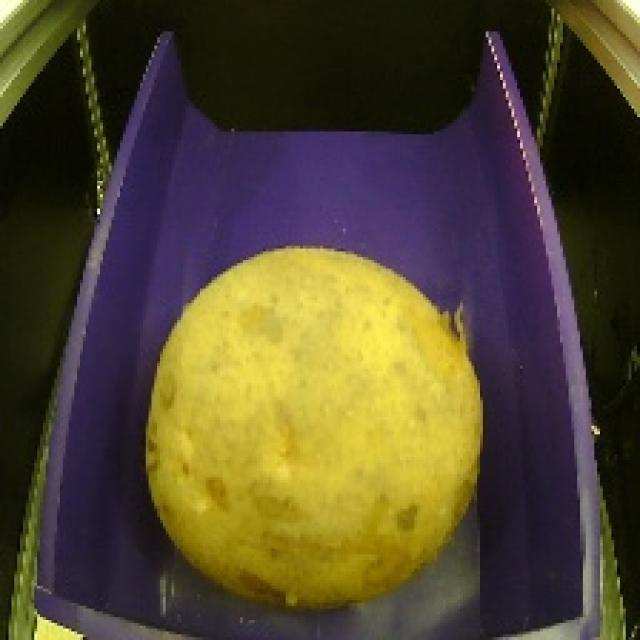full_potato: (127, 232, 507, 622)
